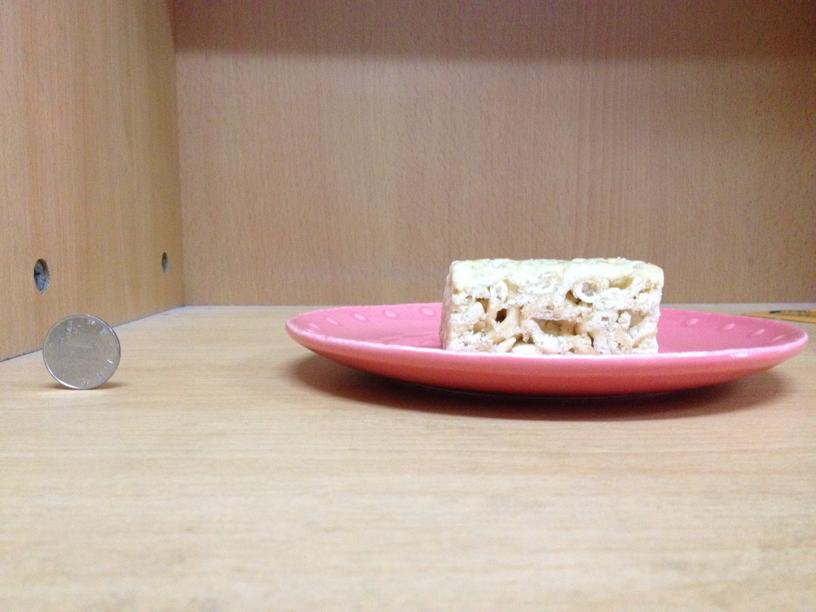coin: (42, 315, 122, 390)
sachima: (434, 254, 663, 360)
